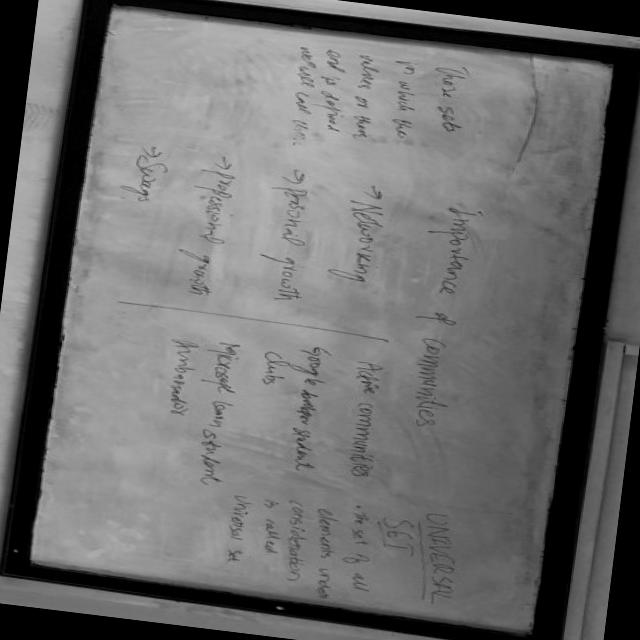White-board: (12, 0, 633, 640)
